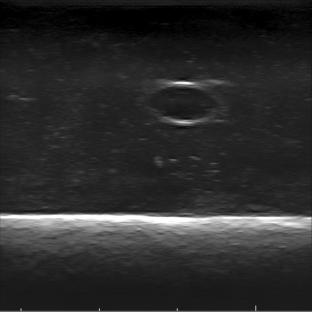vessel: (148, 80, 216, 126)
